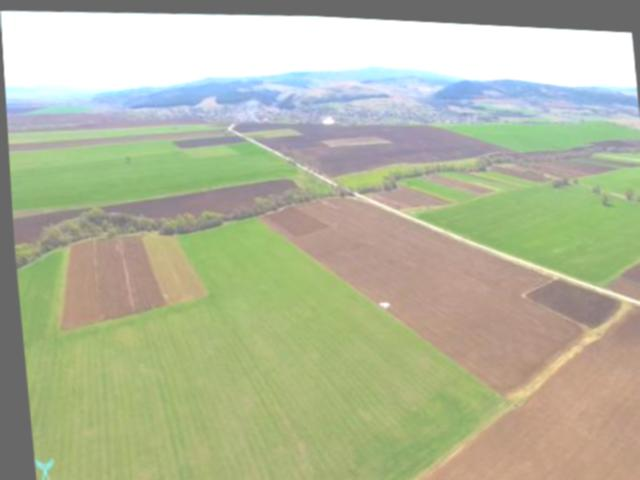uav: (372, 291, 391, 309)
